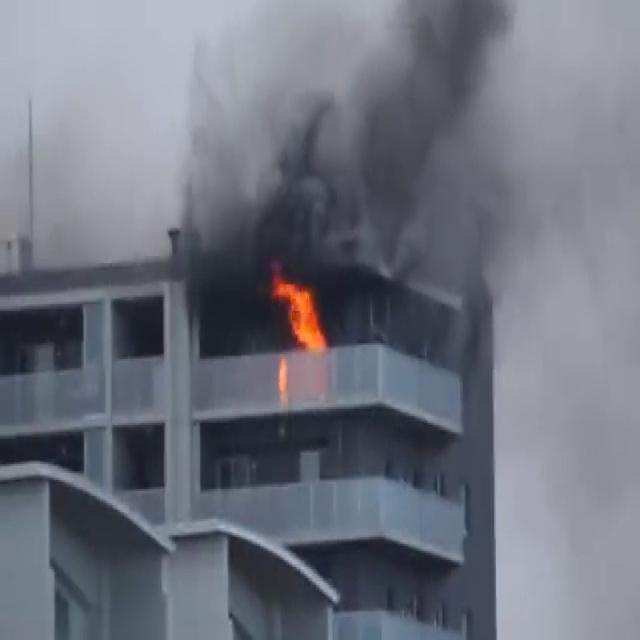Fire: (270, 268, 328, 354)
Smoke: (143, 0, 640, 363)
